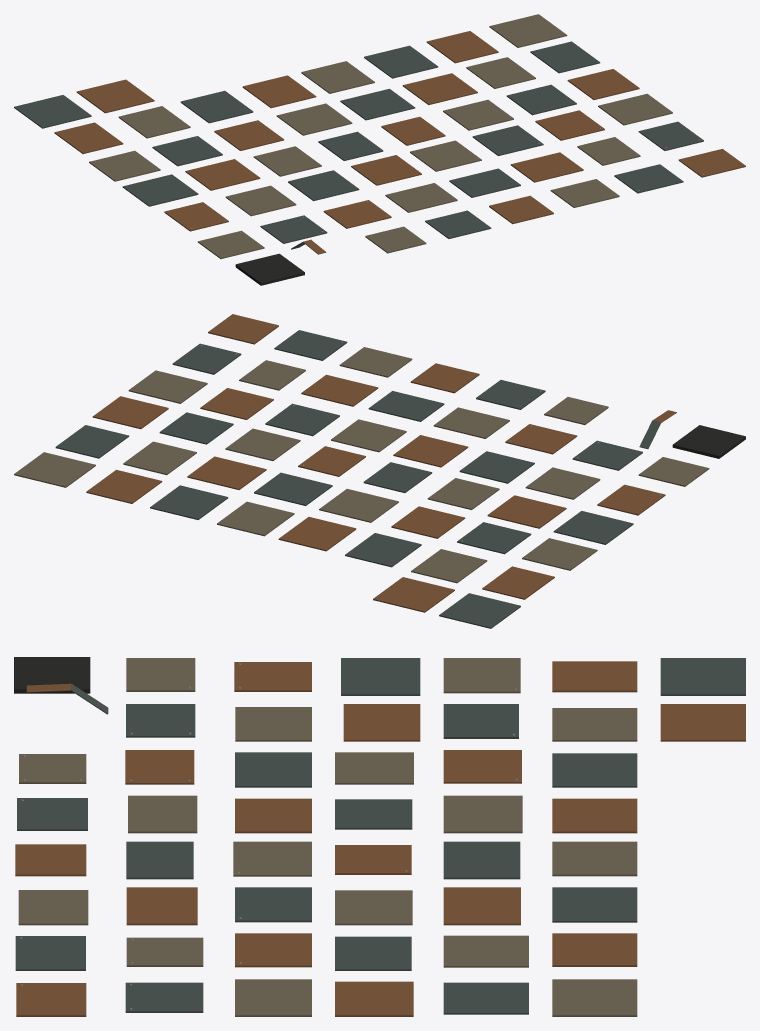
Rendered from R4H_HullKit.fbx.
3 renders of one model, top to bottom at view 1: azimuth 30°, elevation 25°; view 2: azimuth 150°, elevation 25°; view 3: azimuth 270°, elevation 25°, orthographic. The views are drawn at different scales.
Visible parts, largest first — view 1: plate_15_0, plate_15_1, plate_15_2, plate_07_1, plate_11_0, plate_14_1, plate_13_2, plate_14_0, plate_11_2, plate_07_0, plate_07_2, plate_13_1 (+37 smaller); view 2: plate_15_0, plate_15_1, plate_15_2, plate_07_1, plate_14_1, plate_11_0, plate_13_2, plate_14_0, plate_11_2, plate_07_0, plate_07_2, plate_13_1 (+37 smaller); view 3: plate_15_0, plate_15_1, plate_15_2, plate_11_0, plate_14_1, plate_13_2, plate_14_0, plate_11_2, plate_07_1, plate_11_1, plate_13_1, plate_07_2 (+38 smaller).
Part boxes in pixels (box(x1,y1,x2,y2)): plate_15_0: box(489, 14, 567, 47); plate_15_1: box(14, 95, 91, 128); plate_15_2: box(76, 79, 154, 113); plate_07_1: box(122, 174, 198, 206); plate_11_0: box(276, 103, 352, 135); plate_14_1: box(364, 45, 438, 78); plate_13_2: box(242, 75, 316, 108); plate_14_0: box(301, 61, 374, 93); plate_11_2: box(402, 73, 477, 104); plate_07_0: box(598, 93, 672, 125); plate_07_2: box(185, 159, 260, 190); plate_13_1: box(180, 90, 253, 123); plate_15_0: box(14, 452, 95, 487); plate_15_1: box(439, 593, 520, 628); plate_15_2: box(373, 577, 454, 612); plate_07_1: box(553, 511, 633, 544); plate_14_1: box(150, 485, 228, 519); plate_11_0: box(319, 489, 398, 522); plate_13_2: box(278, 517, 356, 551); plate_14_0: box(217, 501, 294, 536); plate_11_2: box(187, 456, 266, 489); plate_07_0: box(128, 370, 207, 403); plate_07_2: box(487, 495, 566, 528); plate_13_1: box(345, 533, 421, 567); plate_15_0: box(552, 979, 637, 1016); plate_15_1: box(660, 658, 745, 695); plate_15_2: box(660, 704, 745, 741); plate_11_0: box(443, 795, 522, 833); plate_14_1: box(552, 887, 637, 922); plate_13_2: box(552, 798, 637, 833); plate_14_0: box(552, 841, 637, 876); plate_11_2: box(443, 887, 520, 925); plate_07_1: box(341, 658, 420, 695); plate_11_1: box(443, 841, 520, 879); plate_13_1: box(552, 753, 637, 787); plate_07_2: box(343, 704, 420, 741).
Bounding box in the file's own units: 5.45 × 0.1789 × 4.72.
